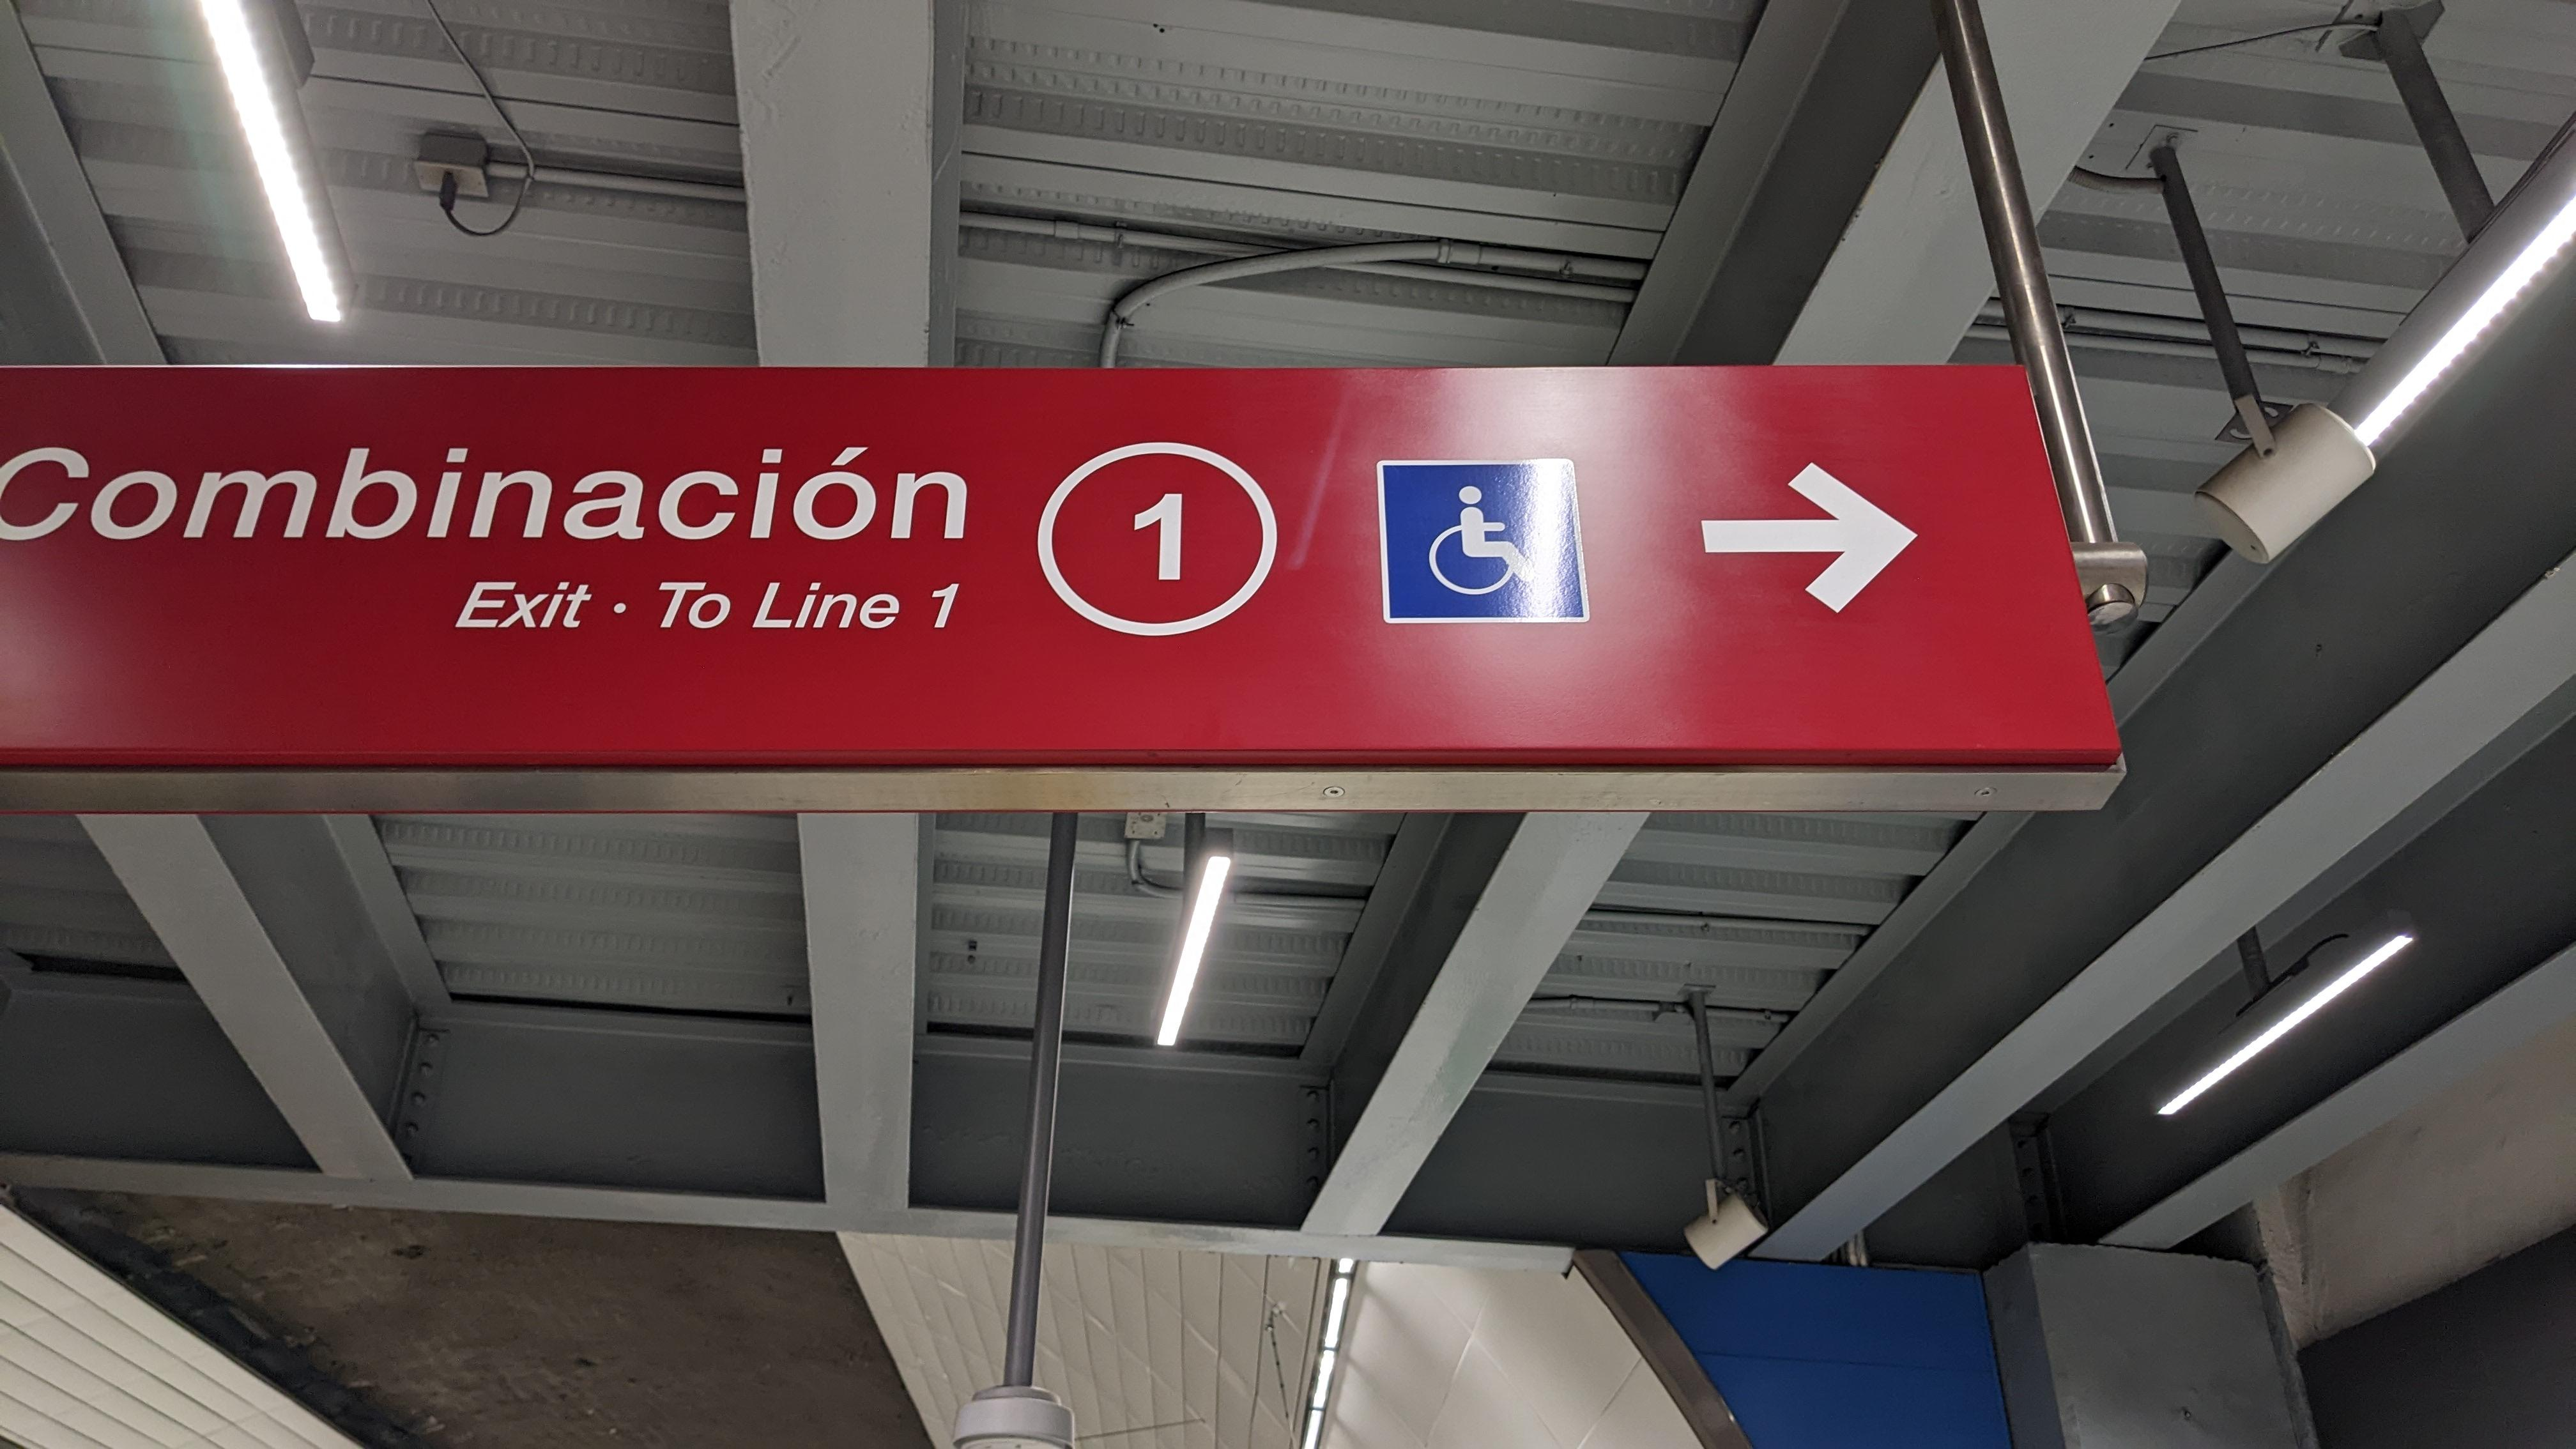handicapped symbol: (1422, 479, 1539, 600)
right arrow: (1686, 451, 1927, 626)
